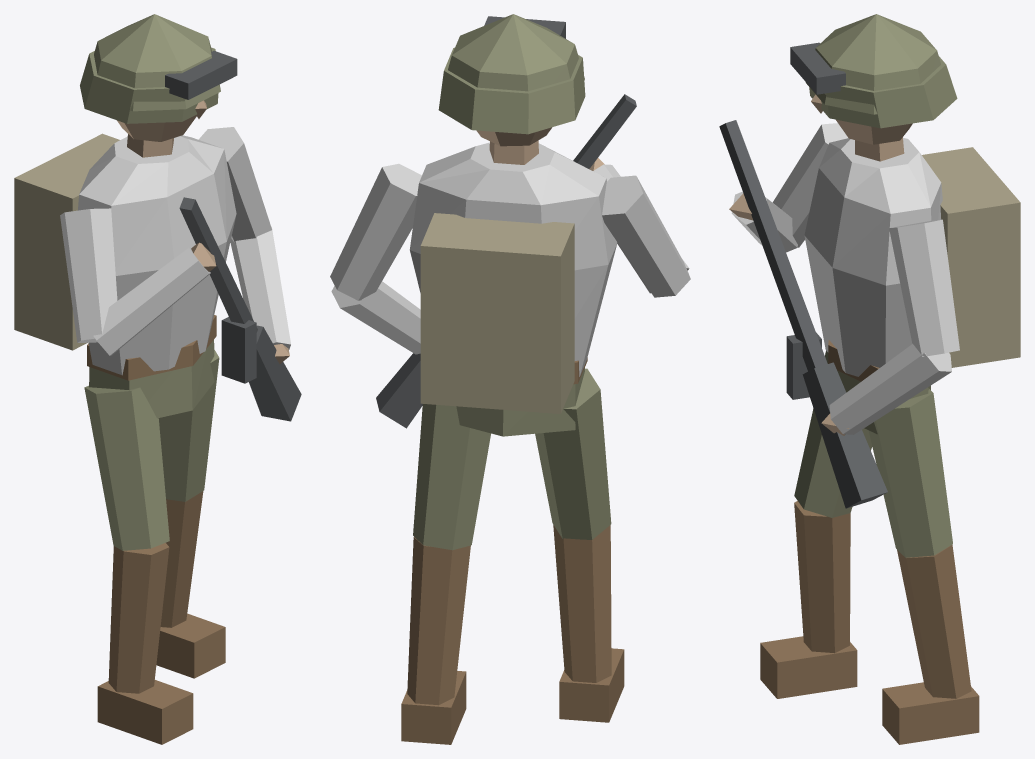
File: marine.glb
The picture shows the model from 3 angles, left to right: view 1: azimuth 30°, elevation 25°; view 2: azimuth 150°, elevation 25°; view 3: azimuth 270°, elevation 25°; orthographic projection. The views are drawn at different scales.
Parts seen in each view (by area): view 1: LOD0; view 2: LOD0; view 3: LOD0.
Part boxes in pixels (<box>): LOD0: <box>14,14,301,744</box>; LOD0: <box>330,14,690,744</box>; LOD0: <box>719,14,1020,744</box>.
Size of what is drawn, in the model's own units: 0.4042 by 0.981 by 0.3884.
